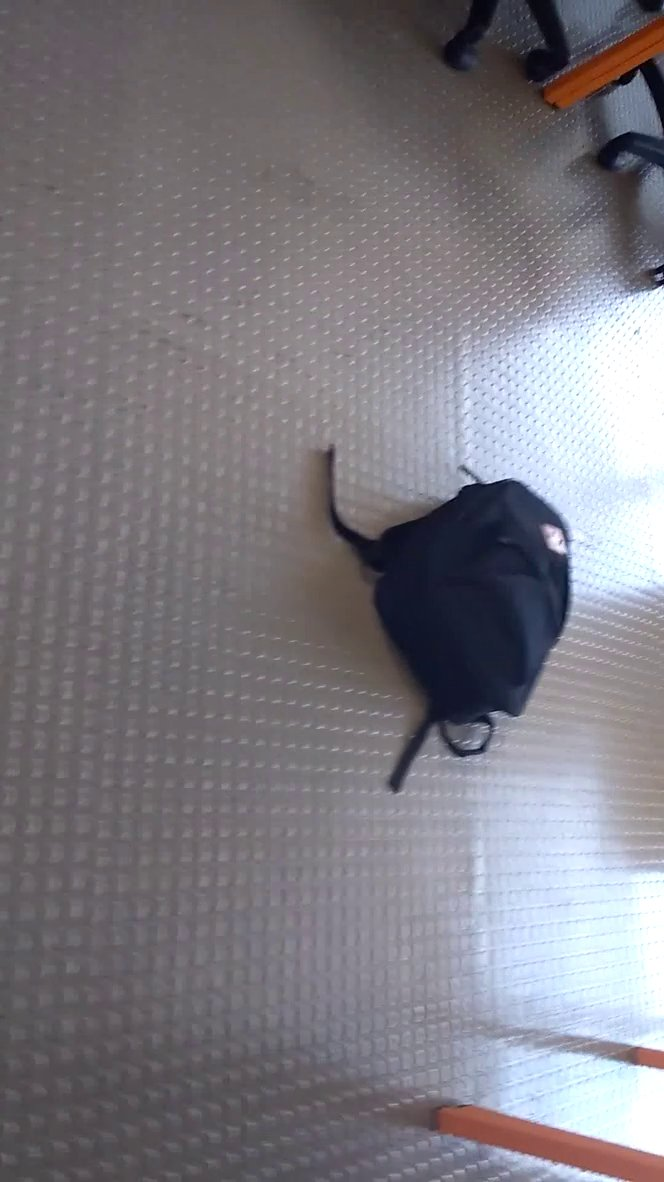bag: (304, 436, 574, 800)
